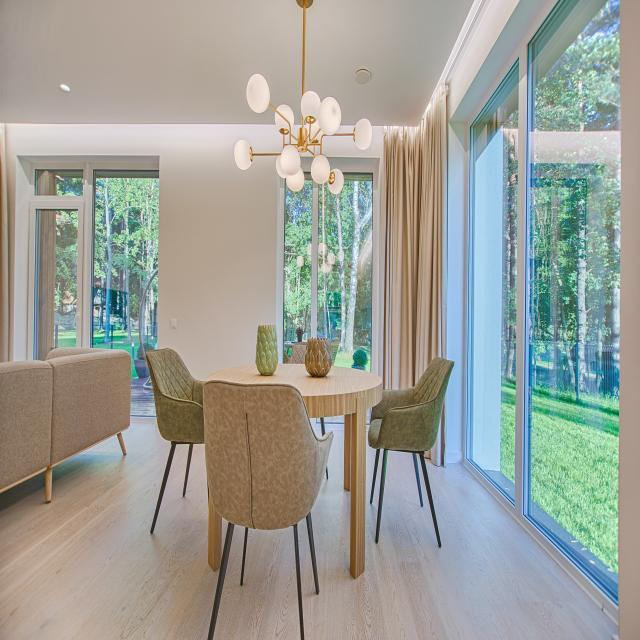floor: (298, 430, 619, 640), (0, 422, 221, 640), (213, 524, 301, 640)
wall: (5, 124, 283, 382), (446, 0, 521, 280), (446, 122, 466, 463), (322, 126, 384, 223), (13, 156, 31, 362), (376, 158, 380, 376), (276, 174, 281, 343), (310, 119, 320, 139), (335, 125, 355, 134), (291, 125, 302, 139), (315, 130, 324, 144), (298, 150, 313, 157), (284, 133, 290, 144), (315, 146, 320, 157), (291, 136, 297, 144), (308, 146, 313, 153), (307, 137, 310, 143)
